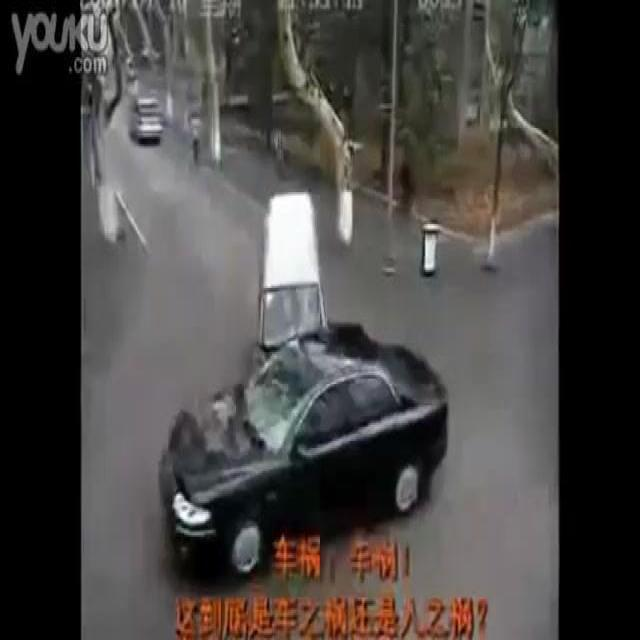accident: (155, 184, 452, 580)
